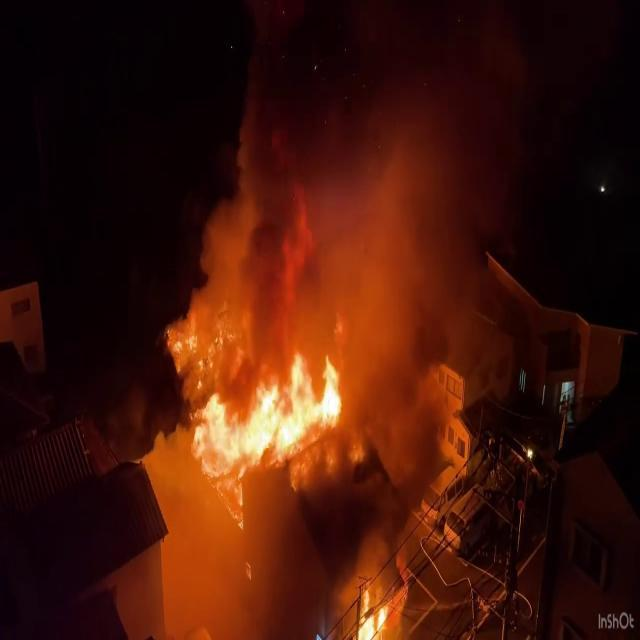Fire: (191, 326, 365, 522), (342, 578, 397, 640)
Smoke: (185, 27, 498, 374)
